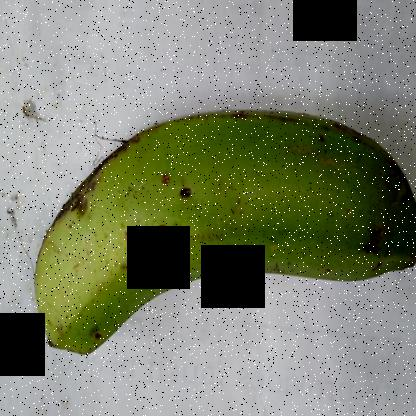unripe: (28, 75, 416, 382)
